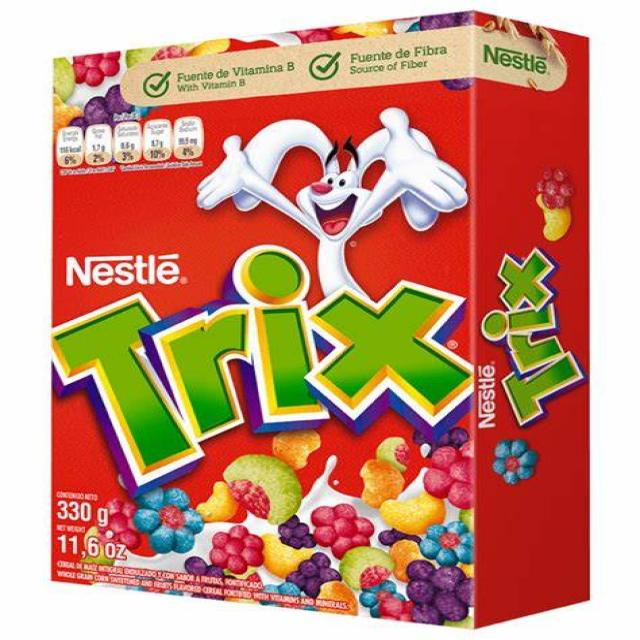Caja: (38, 27, 596, 626)
